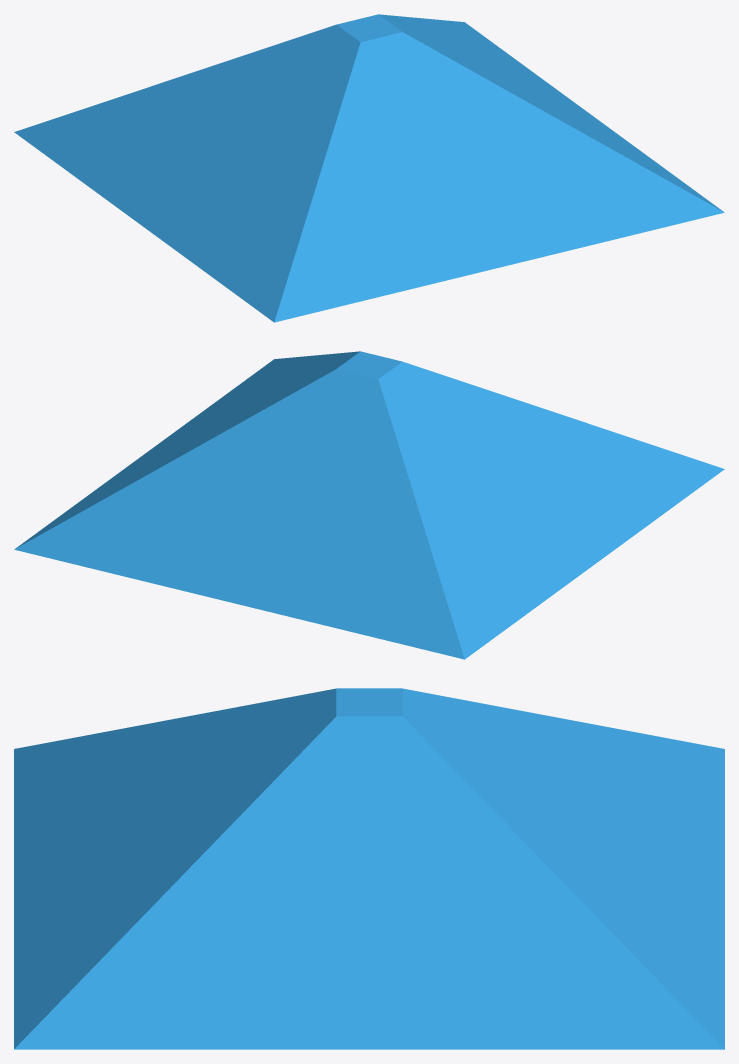
The model's file is StageT4.fbx.
3 renders of one model, top to bottom at view 1: azimuth 30°, elevation 25°; view 2: azimuth 150°, elevation 25°; view 3: azimuth 270°, elevation 25°, orthographic. The views are drawn at different scales.
Visible parts, largest first — view 1: 平面; view 2: 平面; view 3: 平面.
Part boxes in pixels (bbox=[...]): 平面: bbox=[14, 14, 724, 322]; 平面: bbox=[14, 351, 724, 659]; 平面: bbox=[14, 688, 724, 1049].
Size of the model in its own units: 5 by 1.53 by 5.
